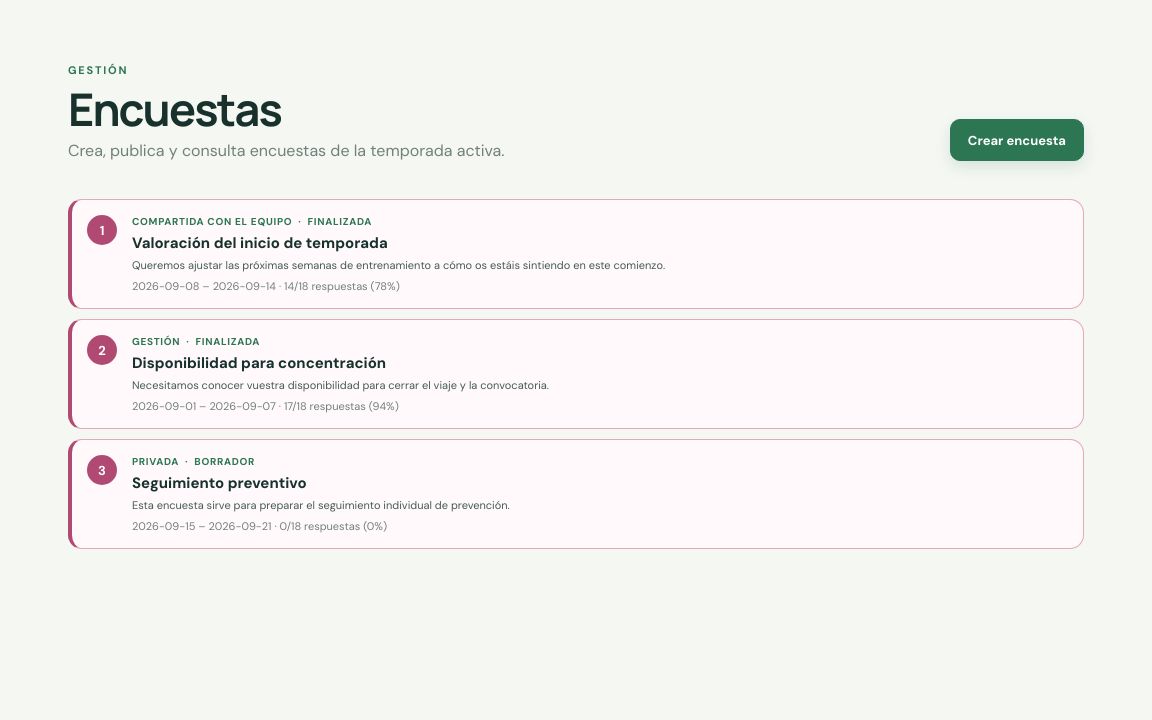
Test: SurveysView draft editor › keeps the optional description when publishing and shows it in the survey summary
Click the button "Crear encuesta".
click(1017, 140)  # box [950,119,1084,161]
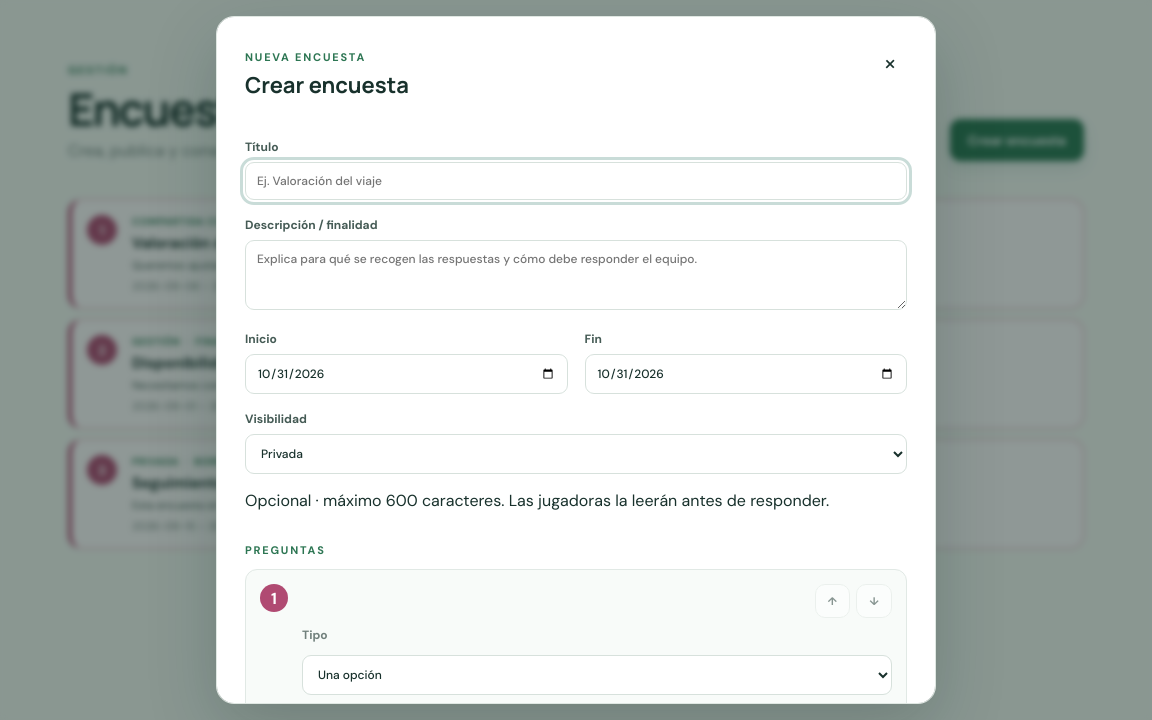
Type "Encuesta de recuperación" into the field labelled "Título".
click(576, 181); type("Encuesta de recuperación")  # box [245,162,907,200]
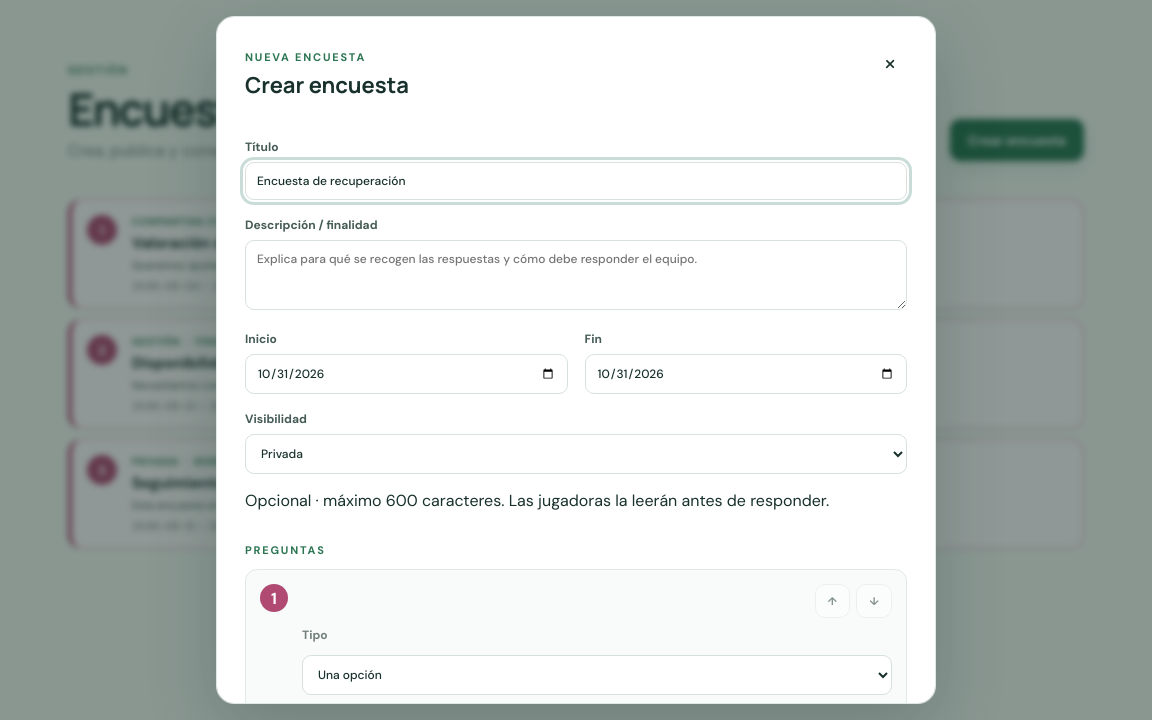
Type "Queremos adaptar la carga de la próxima semana a vuestra recuperación." into the text box labelled "Descripción / finalidad".
click(576, 275); type("Queremos adaptar la carga de la próxima semana a vuestra recuperación.")  # box [245,240,907,310]
(page scrolled)
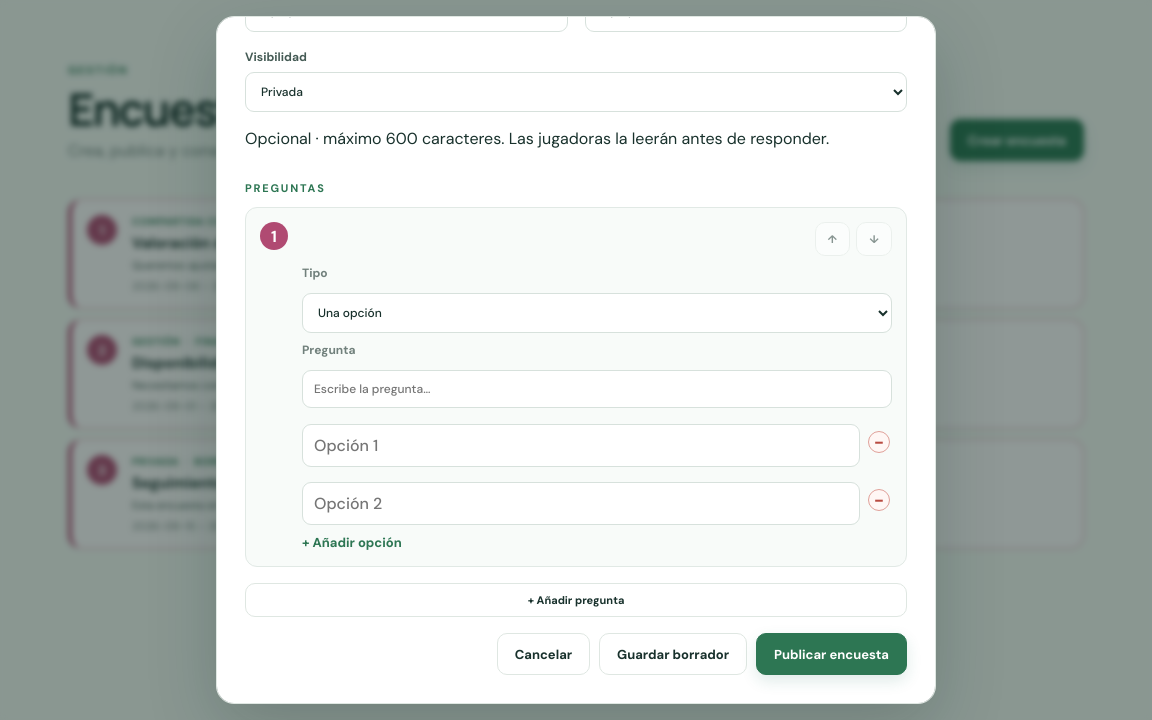
Type "¿Cómo te encuentras tras el partido?" into the field named "Pregunta 1".
click(597, 389); type("¿Cómo te encuentras tras el partido?")  # box [302,370,892,408]
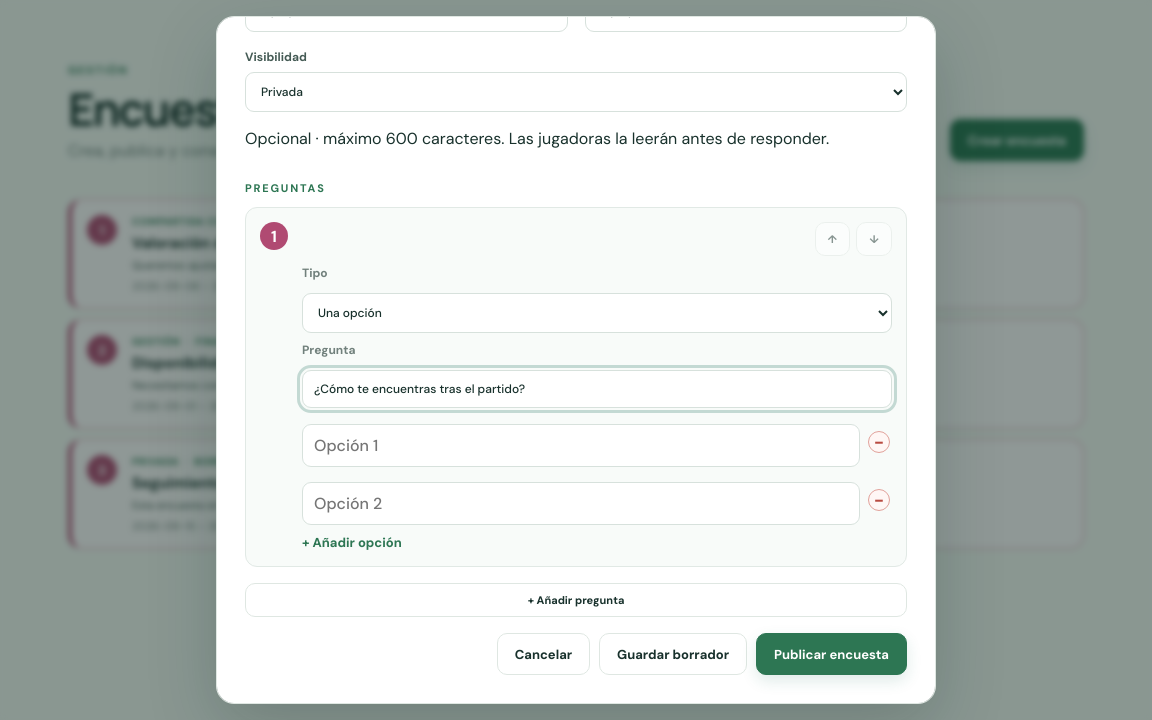
Click the button "Publicar encuesta".
click(832, 654)  # box [756,633,907,675]
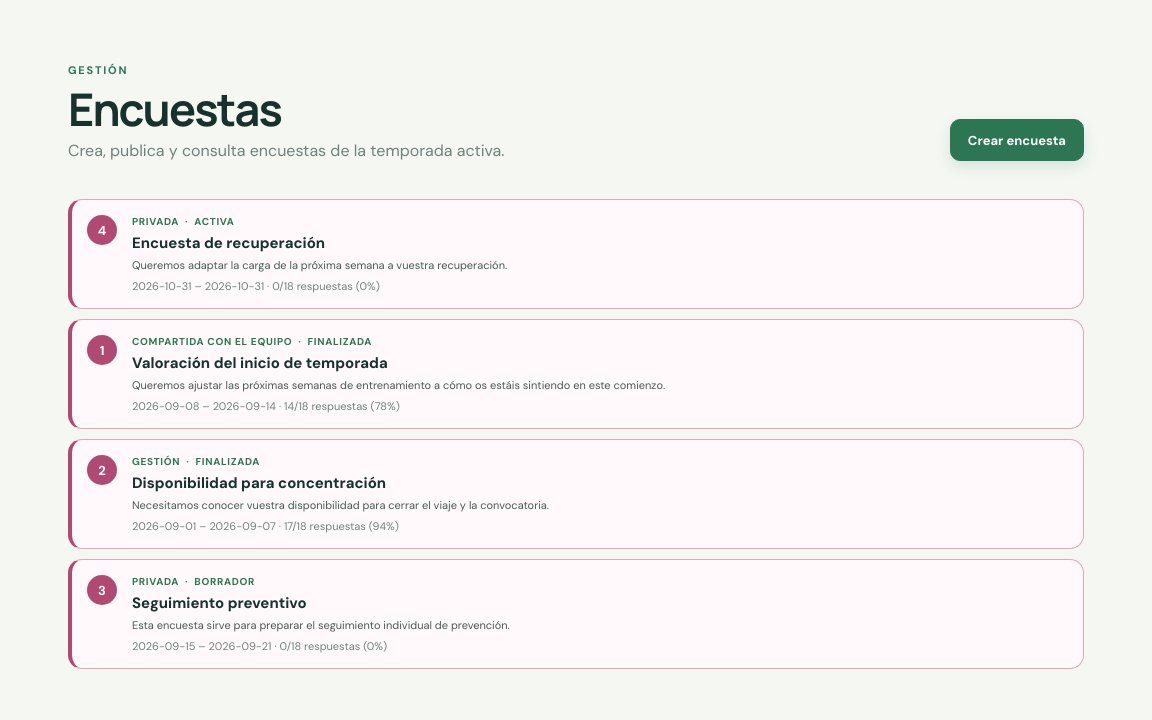
Now the text "Queremos adaptar la carga de la próxima semana a vuestra recuperación." is shown, box [132,258,507,272]
Click the button "Encuesta de recuperación".
click(156, 222)  # box [68,199,1084,309]
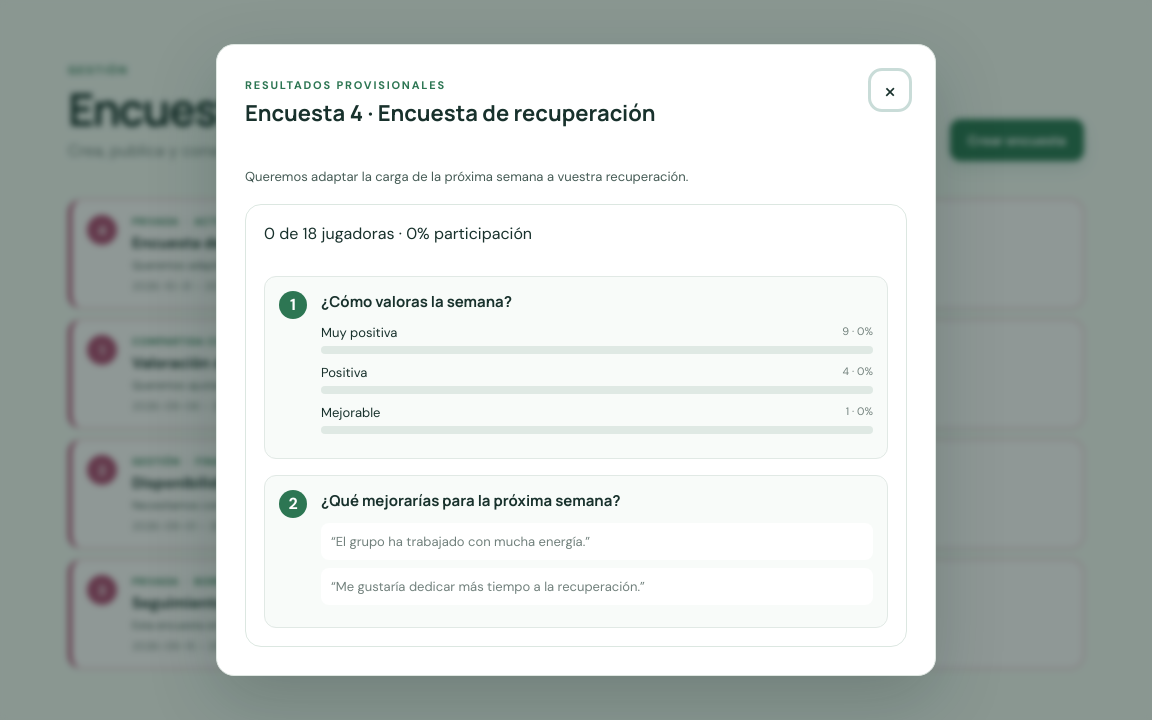
Now the text "Queremos adaptar la carga de la próxima semana a vuestra recuperación." is shown, box [245,168,688,185]
